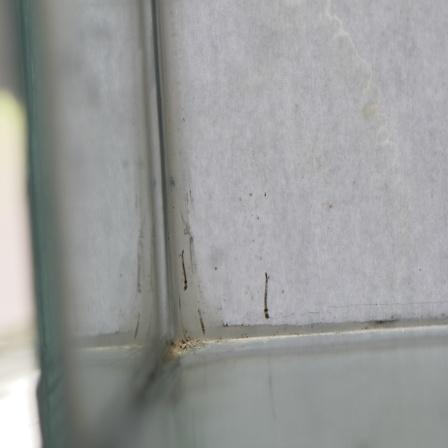Jentik-Nyamuk: (260, 269, 274, 324), (178, 246, 193, 292)
